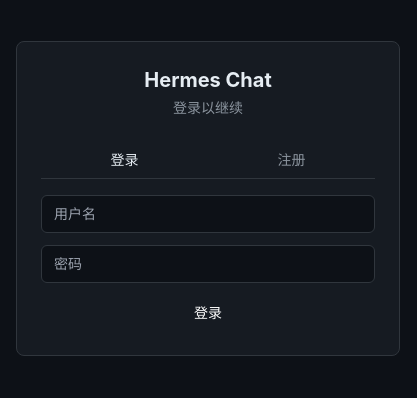
LoginPage › 切换到注册模式
What coordinates should you click on to do the following:
click the button "注册"
I would click on:
 (292, 160)
Its box is [208, 142, 375, 178].
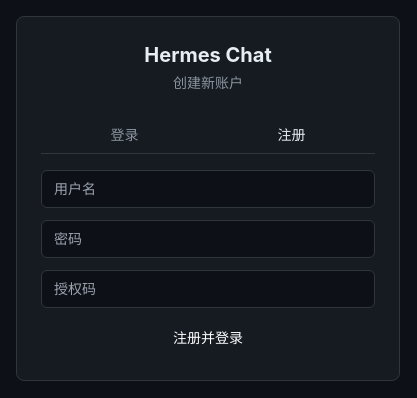
Check: the button "注册并登录" is shown, box [41, 320, 375, 356]
